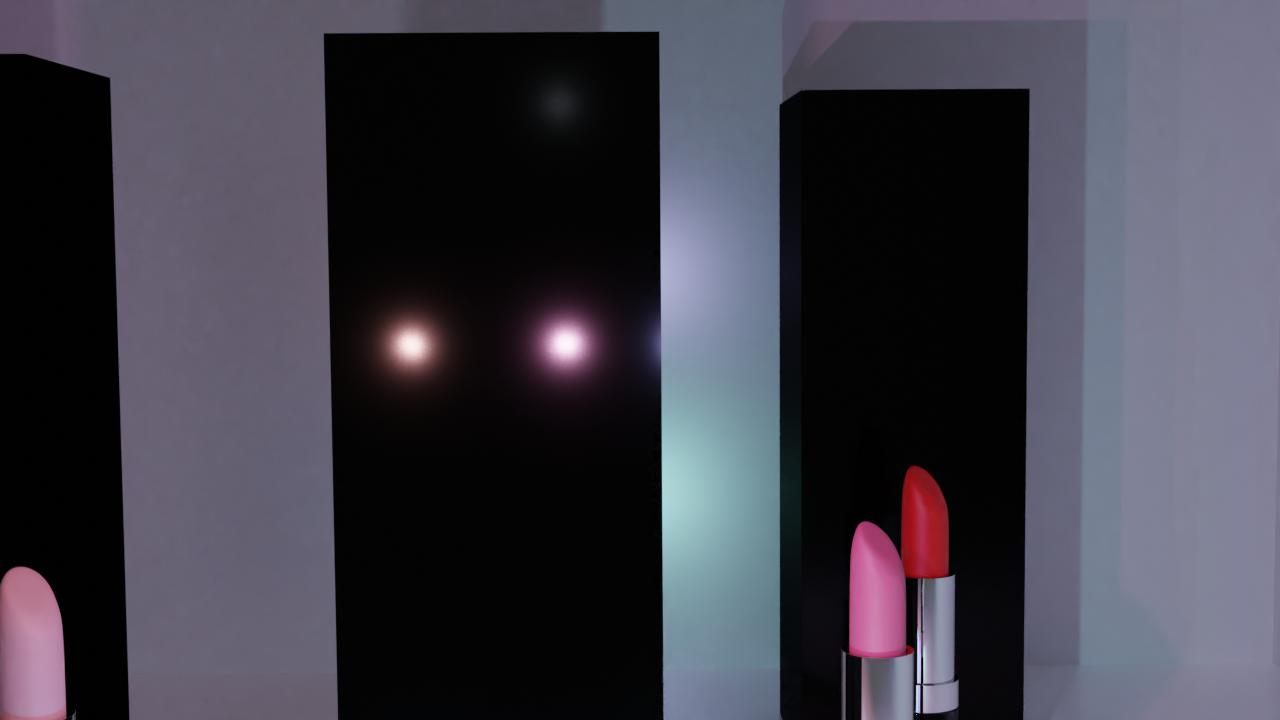CLASSIFIER_NAME: (887, 461, 960, 720), (834, 516, 921, 720), (0, 560, 96, 720)
